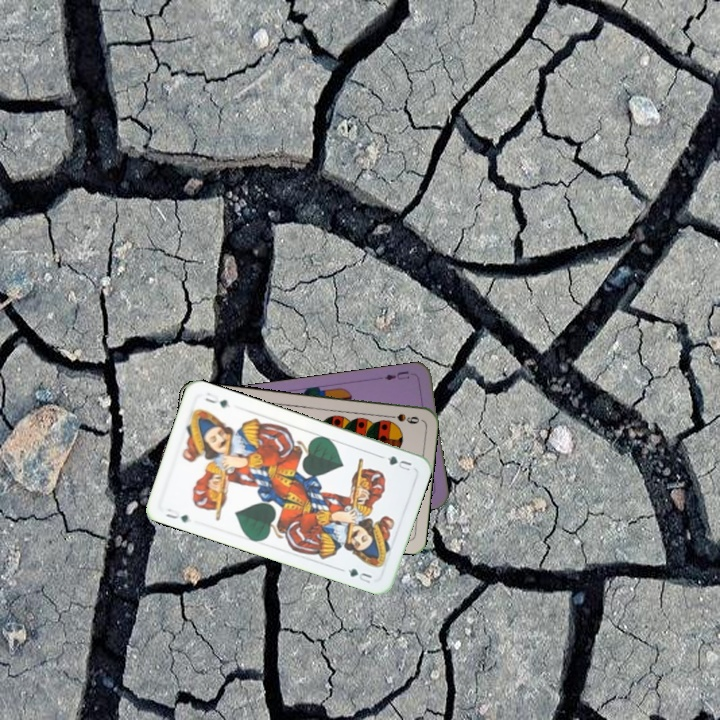EU: (380, 367, 412, 383)
GU: (382, 452, 414, 474), (161, 504, 191, 525)
S9: (382, 410, 422, 427)
